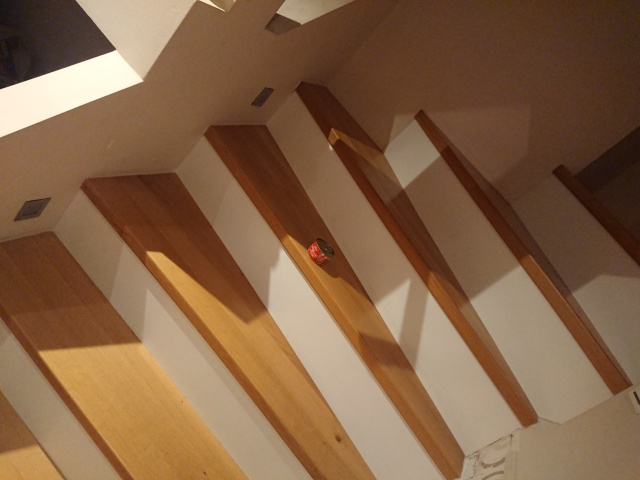Podravka Luncheon Meat 150g: (305, 235, 337, 269)
